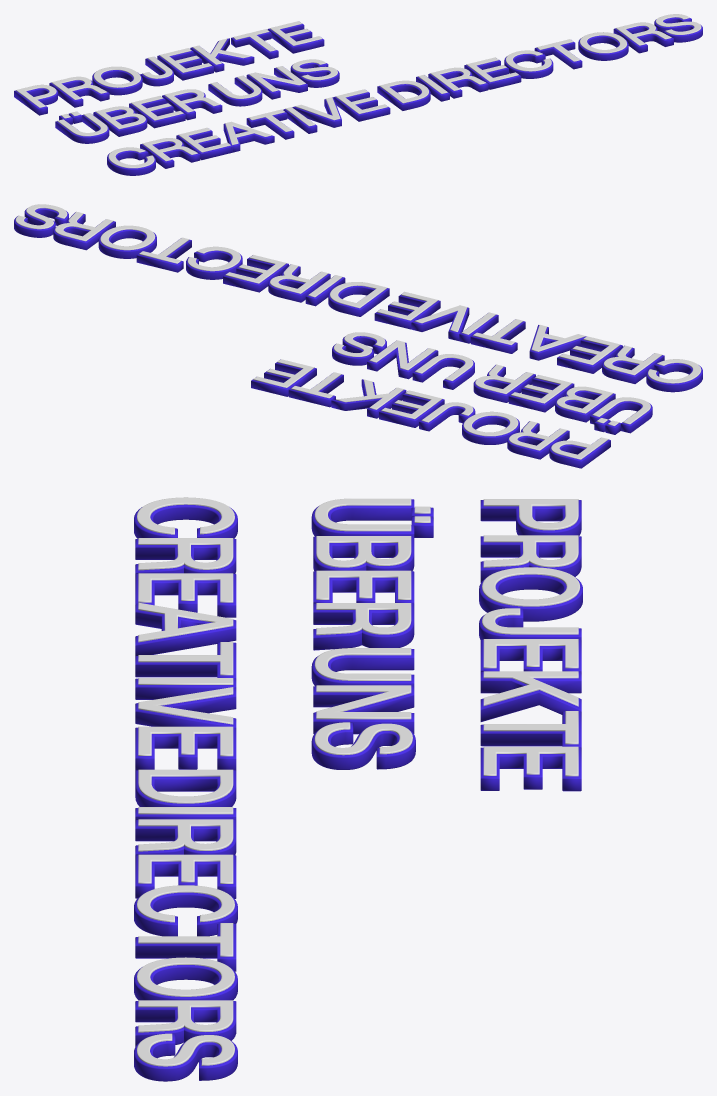
The model's file is site-headings-transformed.glb.
3 renders of one model, top to bottom at view 1: azimuth 30°, elevation 25°; view 2: azimuth 150°, elevation 25°; view 3: azimuth 270°, elevation 25°, orthographic. The views are drawn at different scales.
Visible parts, largest first — view 1: Text.008, Text.009; view 2: Text.008, Text.009; view 3: Text.008, Text.009.
Boxes of the visible parts, bbox=[...] form: Text.008: bbox=[14, 17, 702, 175]; Text.009: bbox=[16, 14, 701, 168]; Text.008: bbox=[14, 208, 702, 468]; Text.009: bbox=[15, 204, 701, 459]; Text.008: bbox=[134, 499, 582, 1081]; Text.009: bbox=[137, 497, 580, 1066].
Bounding box in the file's own units: 9.04 × 0.1326 × 3.01.
